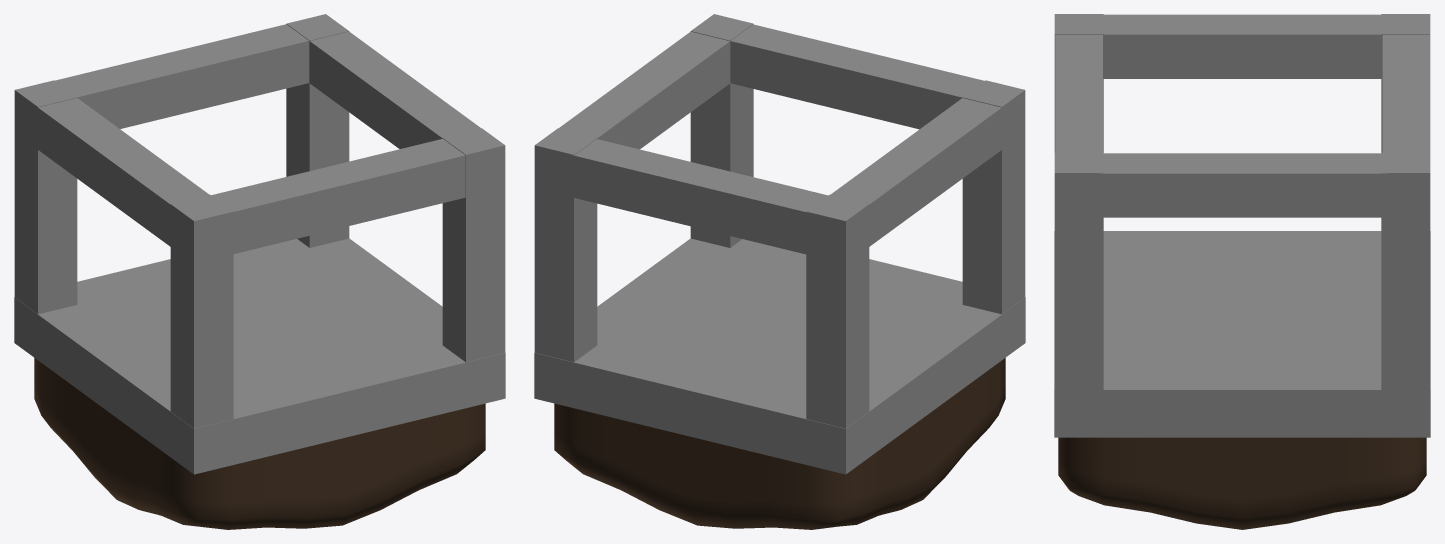
Rendered from Seat.fbx.
The picture shows the model from 3 angles, left to right: view 1: azimuth 30°, elevation 25°; view 2: azimuth 150°, elevation 25°; view 3: azimuth 270°, elevation 25°; orthographic projection. The views are drawn at different scales.
Visible parts, largest first — view 1: pCube14, pCube5; view 2: pCube14, pCube5; view 3: pCube14, pCube5.
Boxes of the visible parts, <box> form: pCube14: <box>14,14,505,474</box>; pCube5: <box>34,358,485,529</box>; pCube14: <box>534,14,1025,474</box>; pCube5: <box>554,358,1005,529</box>; pCube14: <box>1054,14,1430,437</box>; pCube5: <box>1058,437,1426,529</box>.
Bounding box in the file's own units: 1.02 × 1.17 × 1.02.
